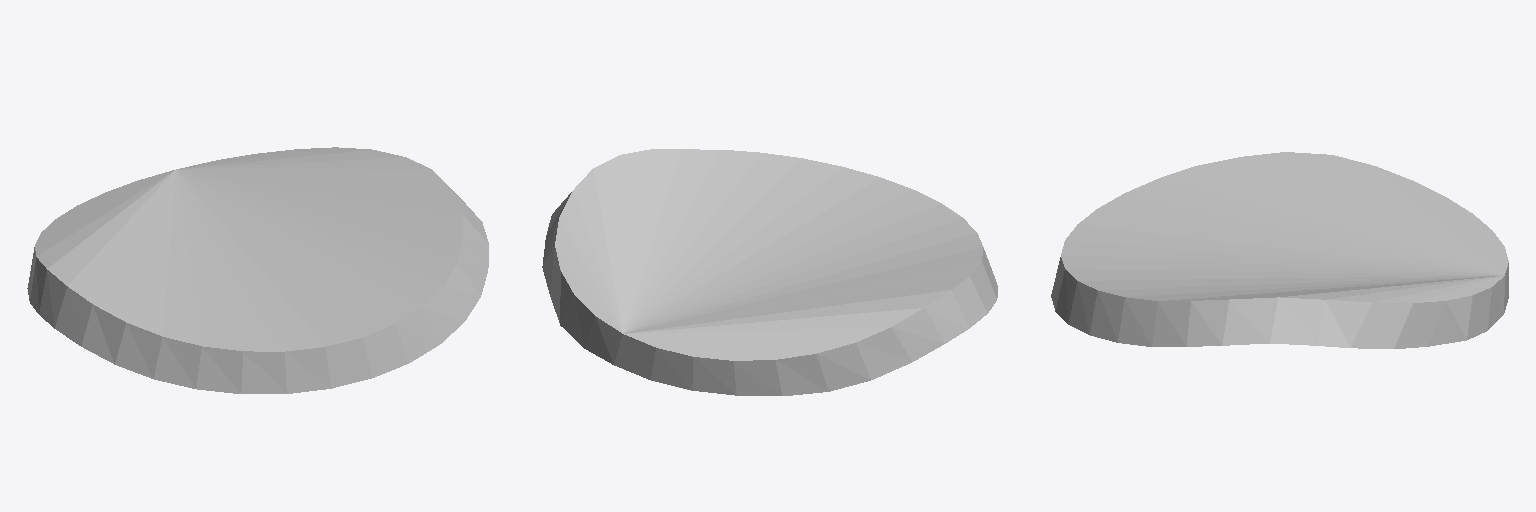
Rendered from Hat (belt).obj.
3 renders of one model, left to right at view 1: azimuth 30°, elevation 25°; view 2: azimuth 150°, elevation 25°; view 3: azimuth 270°, elevation 25°, orthographic.
Parts seen in each view (by area): view 1: Cylinder.002; view 2: Cylinder.002; view 3: Cylinder.002.
Part boxes in pixels (x1,y1,x2,y2): Cylinder.002: (27, 147, 488, 393); Cylinder.002: (542, 149, 997, 395); Cylinder.002: (1051, 152, 1508, 348).
Size of the model in its own units: 1.2 by 0.2512 by 1.18.